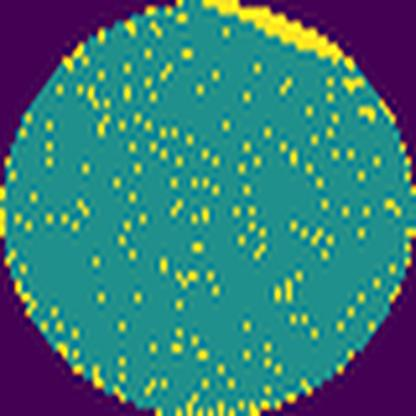Edge-Loc: (198, 0, 354, 64)
